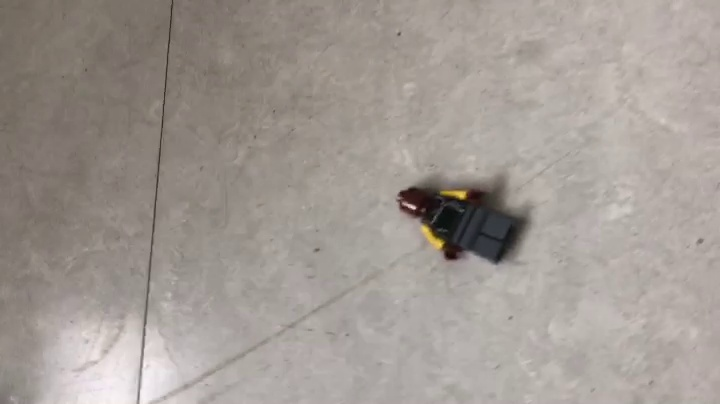people: (394, 184, 522, 266)
